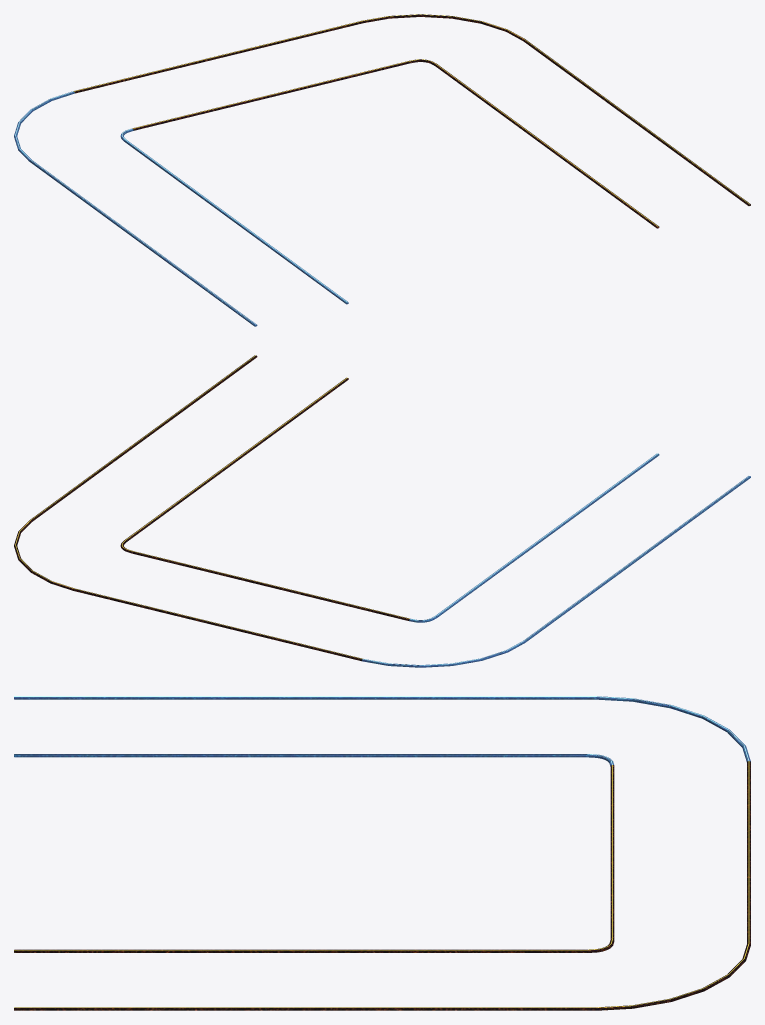
The model's file is lane_kerbs.glb.
3 renders of one model, top to bottom at view 1: azimuth 30°, elevation 25°; view 2: azimuth 150°, elevation 25°; view 3: azimuth 270°, elevation 25°, orthographic. The views are drawn at different scales.
Visible parts, largest first — view 1: lane_kerbs; view 2: lane_kerbs; view 3: lane_kerbs.
Boxes of the visible parts, x1,y1,x2,y2 form: lane_kerbs: [14, 14, 750, 326]; lane_kerbs: [14, 355, 750, 667]; lane_kerbs: [14, 696, 750, 1010].
Bounding box in the file's own units: 133 × 0.48 × 133.
Materials: 1 (1 with a texture image).
